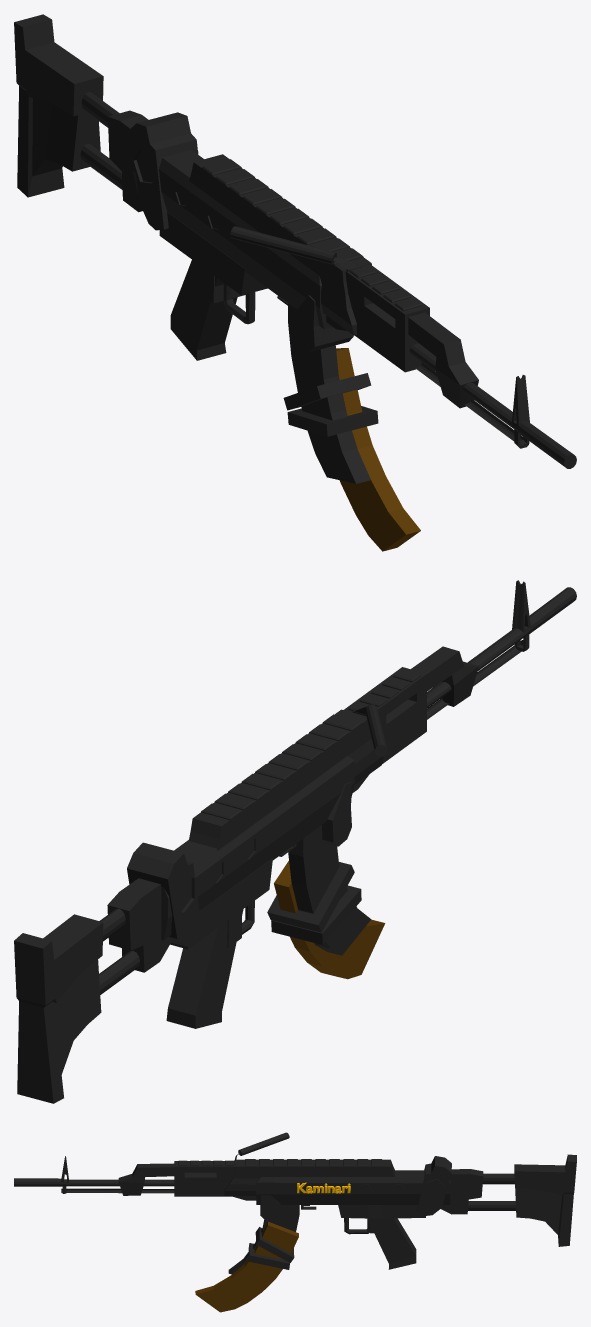
File: zeusG.glb
3 views of the same model, one above another, from view 1: azimuth 30°, elevation 25°; view 2: azimuth 150°, elevation 25°; view 3: azimuth 270°, elevation 25° (orthographic). The views are drawn at different scales.
Visible parts, largest first — view 1: zeus; view 2: zeus; view 3: zeus.
Boxes of the visible parts, bbox=[...] form: zeus: bbox=[14, 14, 576, 551]; zeus: bbox=[14, 580, 576, 1103]; zeus: bbox=[14, 1132, 576, 1312].
Size of the model in its own units: 0.3129 by 0.7911 by 2.61.
